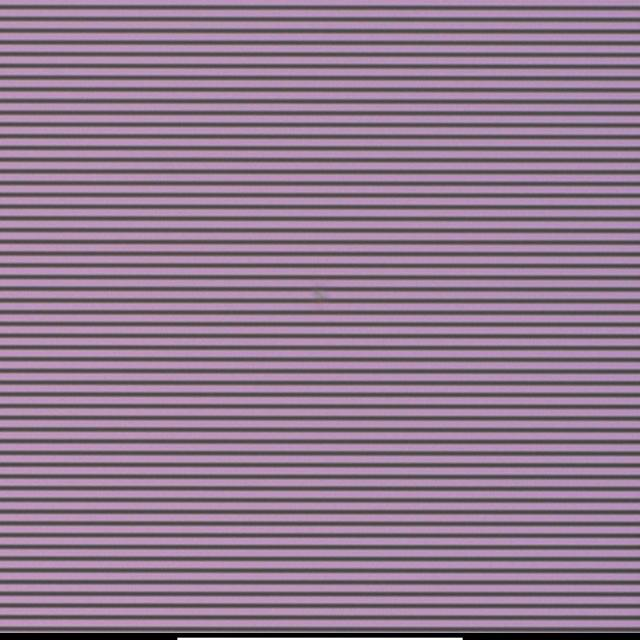nonvisual: (311, 286, 328, 303)
